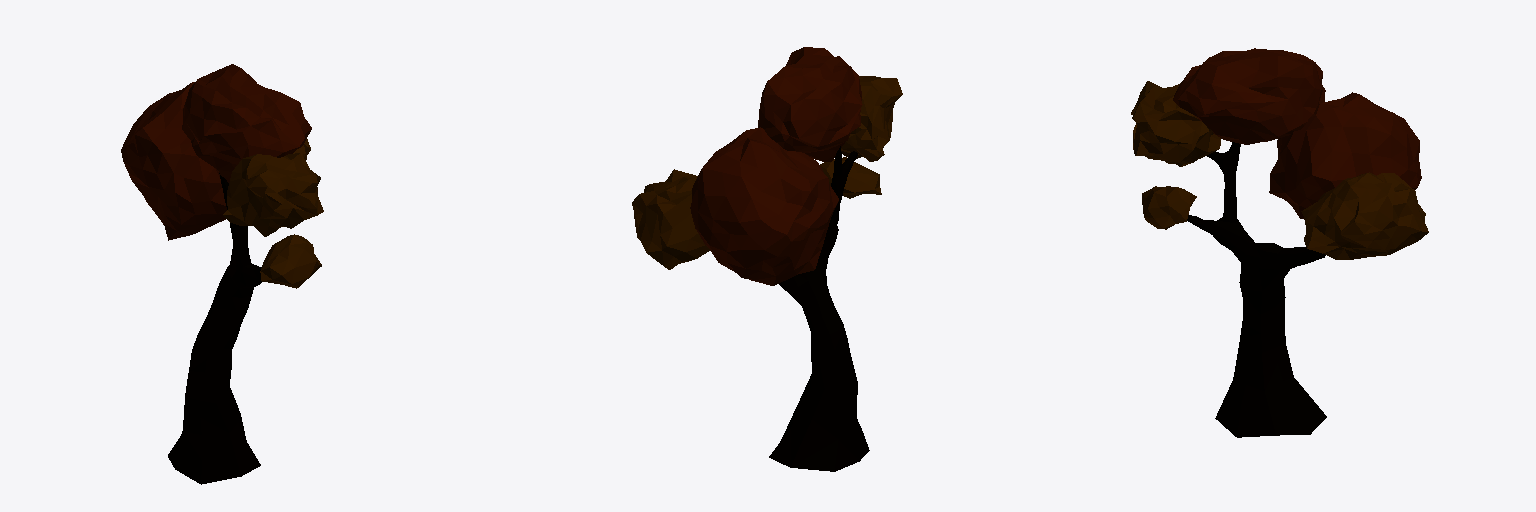
Rendered from common_tree_2_autumn.obj.
The picture shows the model from 3 angles: view 1: azimuth 30°, elevation 25°; view 2: azimuth 150°, elevation 25°; view 3: azimuth 270°, elevation 25°; orthographic projection.
Visible parts, largest first — view 1: common_tree_2_leaves_dark.001, common_tree_2_trunk.001, common_tree_2_leaves.001; view 2: common_tree_2_leaves_dark.001, common_tree_2_trunk.001, common_tree_2_leaves.001; view 3: common_tree_2_leaves_dark.001, common_tree_2_leaves.001, common_tree_2_trunk.001.
Part boxes in pixels (left/top/right/bottom): common_tree_2_leaves_dark.001: left=121, top=64, right=311, bottom=240; common_tree_2_trunk.001: left=168, top=173, right=261, bottom=484; common_tree_2_leaves.001: left=223, top=139, right=323, bottom=288; common_tree_2_leaves_dark.001: left=690, top=47, right=862, bottom=285; common_tree_2_trunk.001: left=769, top=146, right=869, bottom=471; common_tree_2_leaves.001: left=632, top=76, right=902, bottom=269; common_tree_2_leaves_dark.001: left=1173, top=48, right=1421, bottom=219; common_tree_2_leaves.001: left=1131, top=81, right=1428, bottom=259; common_tree_2_trunk.001: left=1187, top=142, right=1326, bottom=437.
Size of the model in its own units: 2.5 by 5.33 by 3.74.